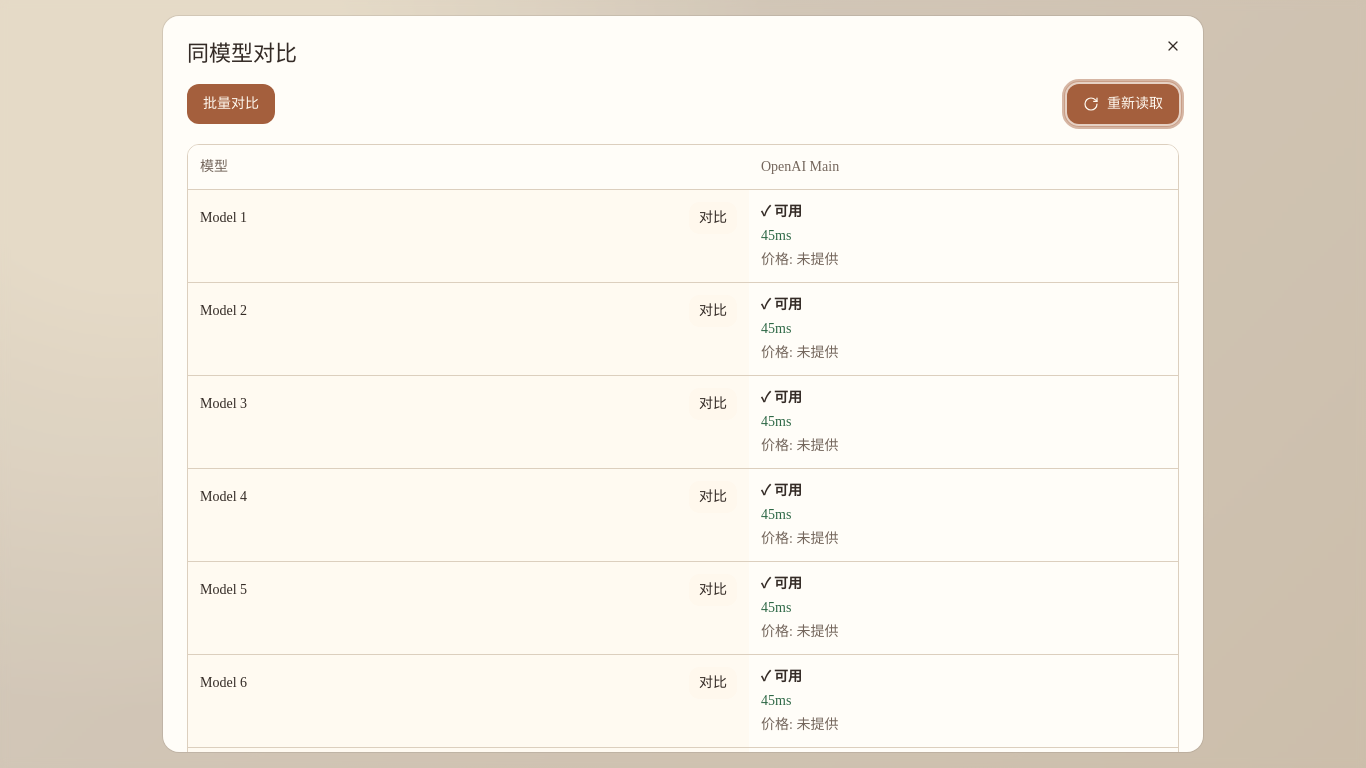
Test case: ModelMatrixDialog v2 behavior › benchmarks every page combination in backend-sized batches
The image size is (1366, 768).
Click the button "批量对比" at (231, 104), box left=187, top=84, right=275, bottom=124
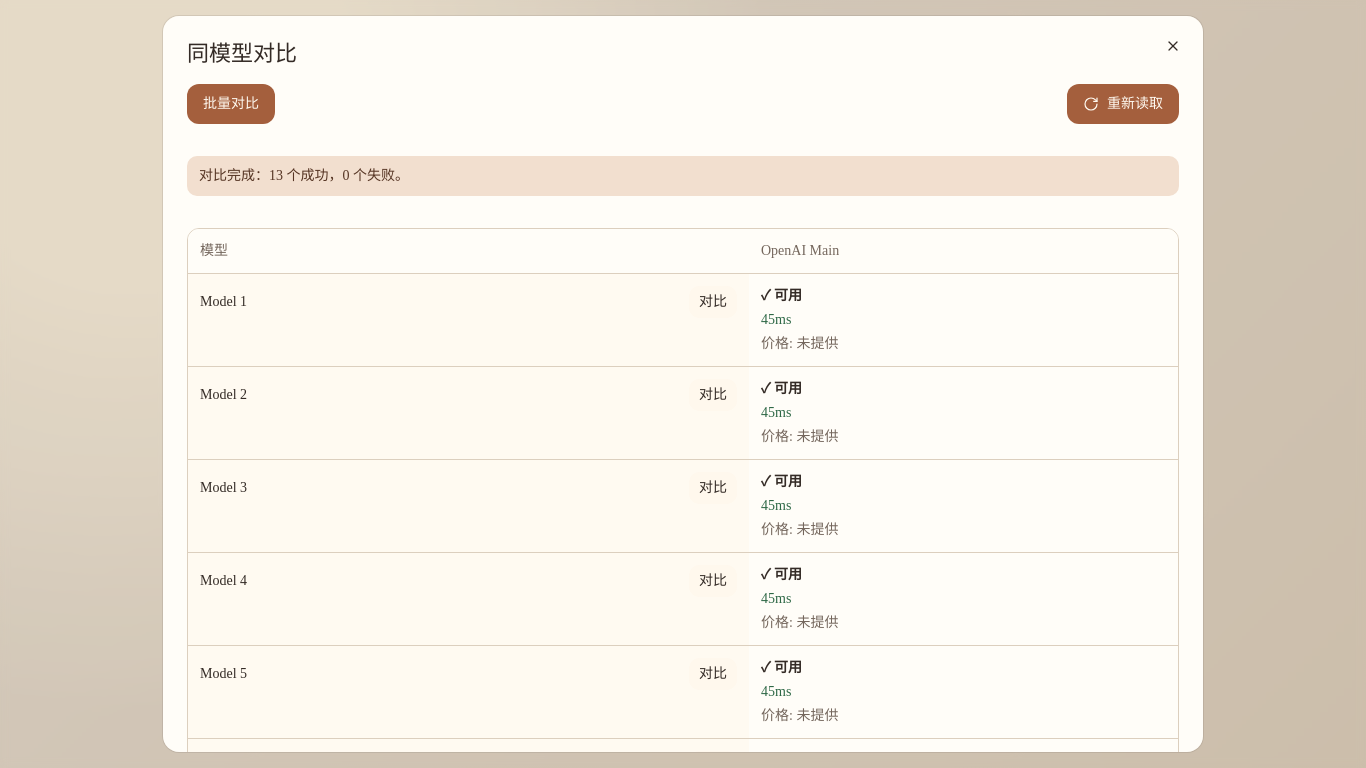
Result: the text "对比完成：13 个成功，0 个失败。" is shown at left=187, top=156, right=1179, bottom=196
